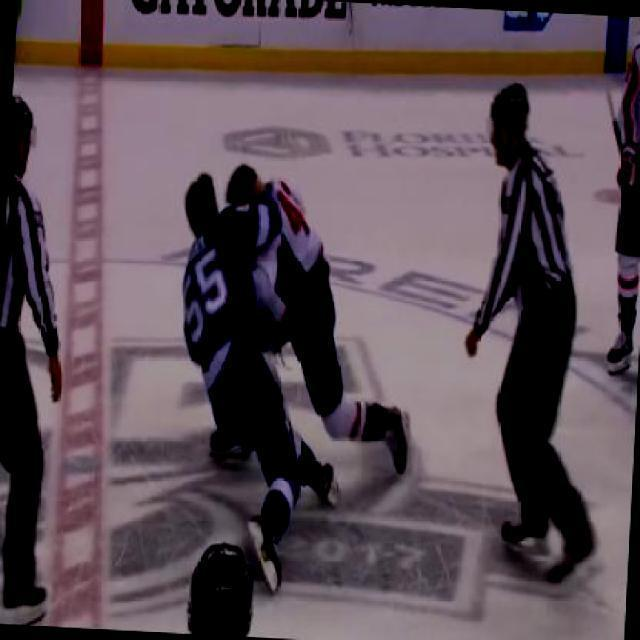fight: (164, 153, 416, 512)
non-fight: (450, 79, 613, 576)
